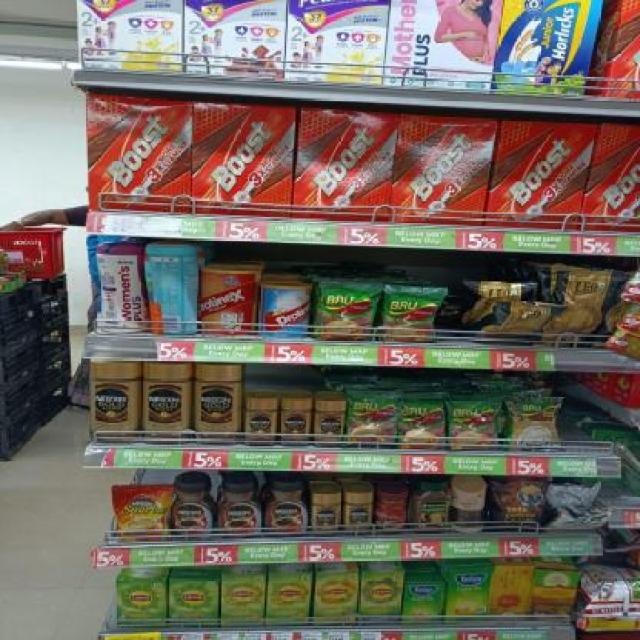Coffee: (92, 362, 139, 443), (145, 364, 189, 444), (198, 364, 239, 445), (116, 488, 170, 540), (215, 482, 263, 538), (170, 483, 216, 539), (265, 483, 307, 537), (315, 399, 345, 447), (342, 493, 372, 536), (281, 401, 310, 445), (249, 398, 276, 444), (312, 494, 338, 537)
